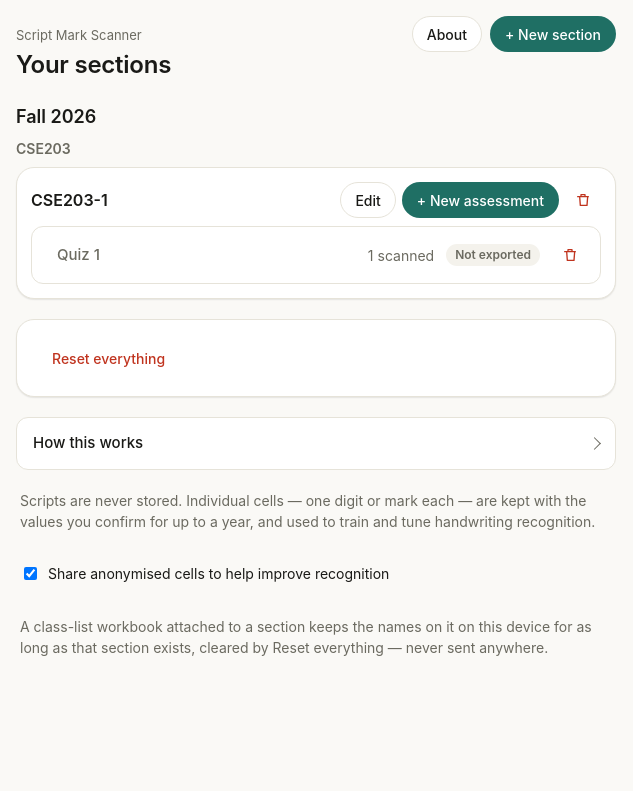
it: Library — the real semester from the design discussion › resume confirmation (step.md 13.14) › Resume opens the assessment and clears the prompt
Click the button "Quiz 1". click: [78, 254]
box: [44, 237, 356, 273]
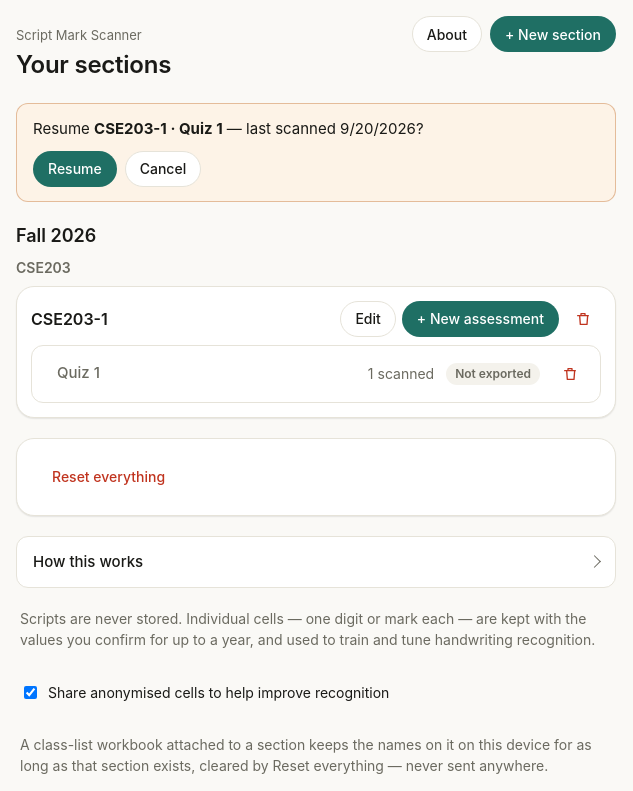
Result: the text "Resume CSE203-1 · Quiz 1 — last scanned 9/20/2026?" is shown at [33, 119, 424, 138]
Click the button "Resume". click: [75, 168]
box: [33, 150, 117, 186]
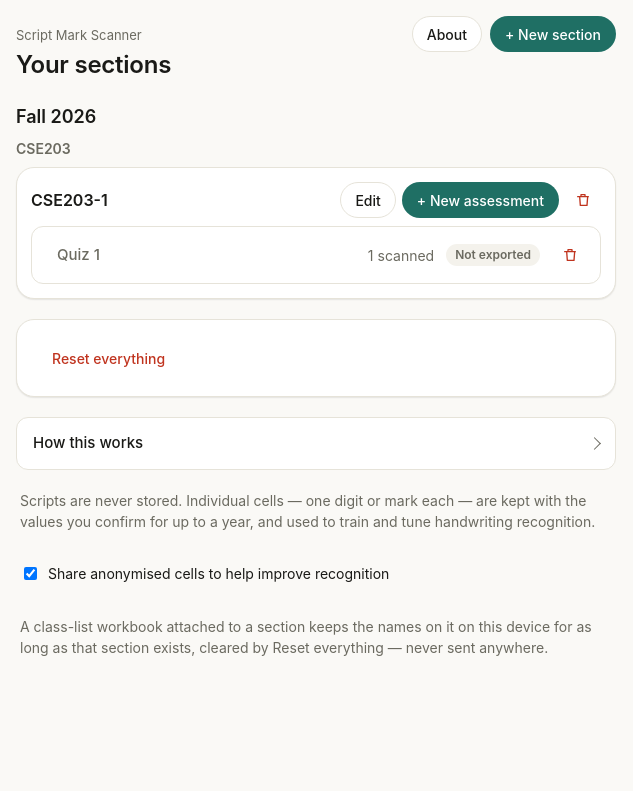
Result: the text "last scanned" is gone
